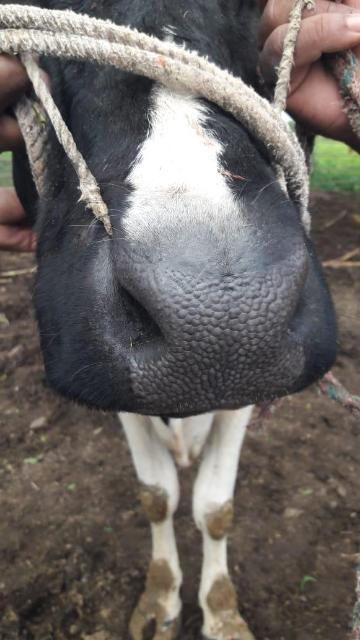Muzzle: (131, 258, 304, 399)
